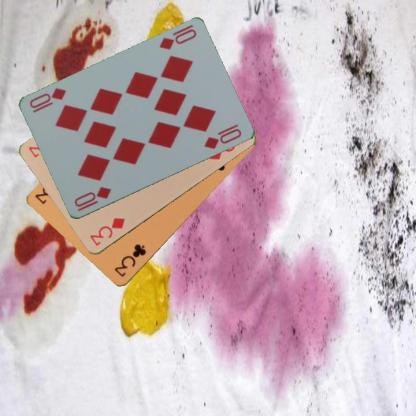10d: (156, 22, 198, 52), (71, 184, 113, 213)
3c: (111, 242, 148, 278)
3d: (87, 215, 127, 247)
